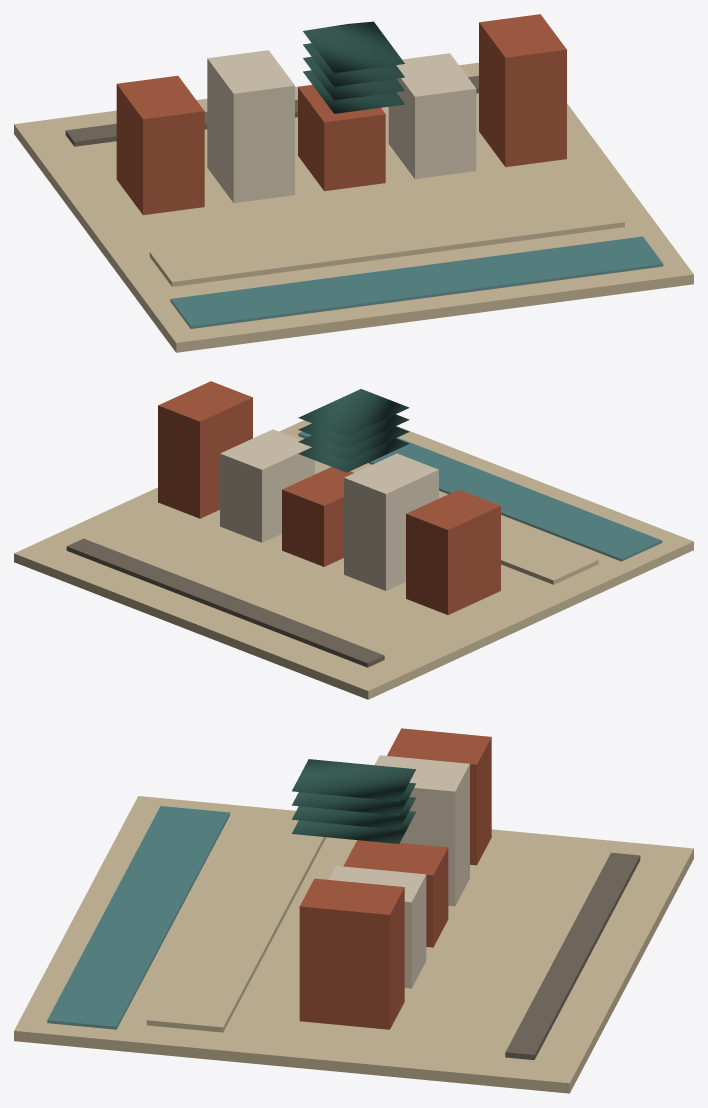
File: model-medium.glb
3 views of the same model, one above another, from view 1: azimuth 30°, elevation 25°; view 2: azimuth 150°, elevation 25°; view 3: azimuth 270°, elevation 25° (orthographic). The views are drawn at different scales.
Parts seen in each view (by area): view 1: context_site_plinth, street_public_axis, context_water_edge, street_facade_1, street_facade_4, street_facade_0, street_facade_3, street_facade_2, street_roof_1, street_roof_3, street_roof_0, street_roof_2 (+1 smaller); view 2: context_site_plinth, street_facade_0, street_facade_4, street_facade_1, context_water_edge, street_facade_3, front_scale_strip, street_facade_2, street_public_axis, street_roof_1, street_roof_2, street_roof_0 (+1 smaller); view 3: context_site_plinth, street_public_axis, context_water_edge, street_facade_4, front_scale_strip, street_facade_1, street_facade_0, street_facade_2, street_roof_1, street_facade_3, street_roof_0, street_roof_2 (+1 smaller).
Part boxes in pixels (left/top/right/bottom): context_site_plinth: left=14, top=62, right=693, bottom=352; street_public_axis: left=149, top=192, right=624, bottom=286; context_water_edge: left=170, top=236, right=663, bottom=328; street_facade_1: left=207, top=50, right=294, bottom=202; street_facade_4: left=479, top=14, right=566, bottom=167; street_facade_0: left=116, top=75, right=204, bottom=215; street_facade_3: left=388, top=53, right=476, bottom=179; street_facade_2: left=298, top=85, right=385, bottom=191; street_roof_1: left=303, top=21, right=404, bottom=73; street_roof_3: left=303, top=56, right=404, bottom=100; street_roof_0: left=303, top=37, right=404, bottom=86; street_roof_2: left=303, top=70, right=404, bottom=113; context_site_plinth: left=14, top=420, right=693, bottom=699; street_facade_0: left=406, top=489, right=500, bottom=614; street_facade_4: left=158, top=381, right=252, bottom=518; street_facade_1: left=344, top=453, right=438, bottom=590; context_water_edge: left=298, top=431, right=662, bottom=561; street_facade_3: left=220, top=429, right=314, bottom=542; front_scale_strip: left=66, top=538, right=384, bottom=667; street_facade_2: left=282, top=467, right=353, bottom=566; street_public_axis: left=315, top=460, right=598, bottom=584; street_roof_1: left=298, top=389, right=409, bottom=436; street_roof_2: left=298, top=438, right=409, bottom=472; street_roof_0: left=298, top=414, right=409, bottom=448; context_site_plinth: left=14, top=796, right=693, bottom=1093; street_public_axis: left=146, top=814, right=326, bottom=1032; context_water_edge: left=47, top=806, right=229, bottom=1029; street_facade_4: left=299, top=878, right=404, bottom=1029; front_scale_strip: left=505, top=852, right=640, bottom=1060; street_facade_1: left=374, top=755, right=469, bottom=906; street_facade_0: left=387, top=728, right=491, bottom=865; street_facade_2: left=343, top=840, right=448, bottom=947; street_roof_1: left=292, top=759, right=415, bottom=801; street_facade_3: left=329, top=866, right=426, bottom=988; street_roof_0: left=291, top=782, right=416, bottom=815; street_roof_2: left=292, top=811, right=415, bottom=843.
Size of the model in its own units: 9.55 by 2.89 by 9.55.
